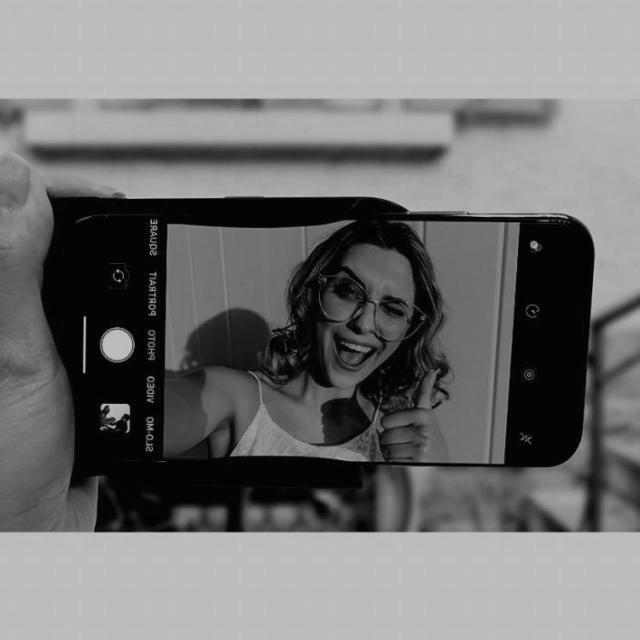fake: (18, 206, 598, 472)
